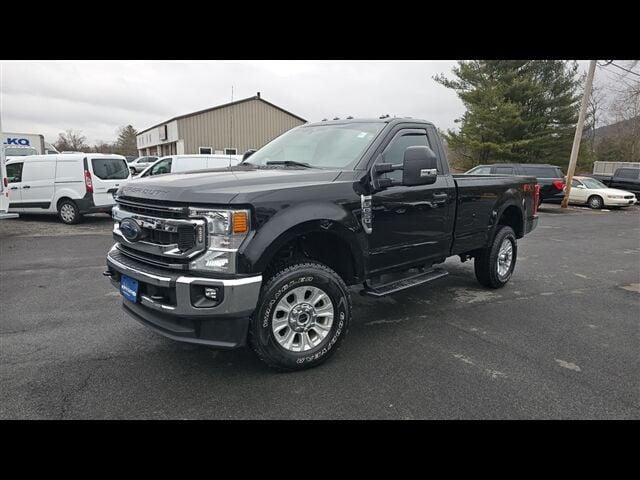pickup-truck: (103, 116, 542, 371)
